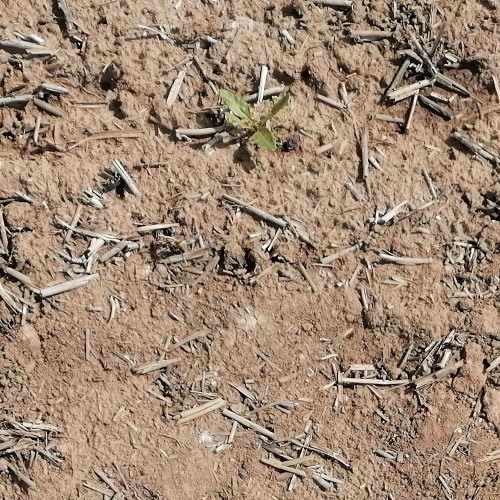beet: (220, 88, 290, 153)
